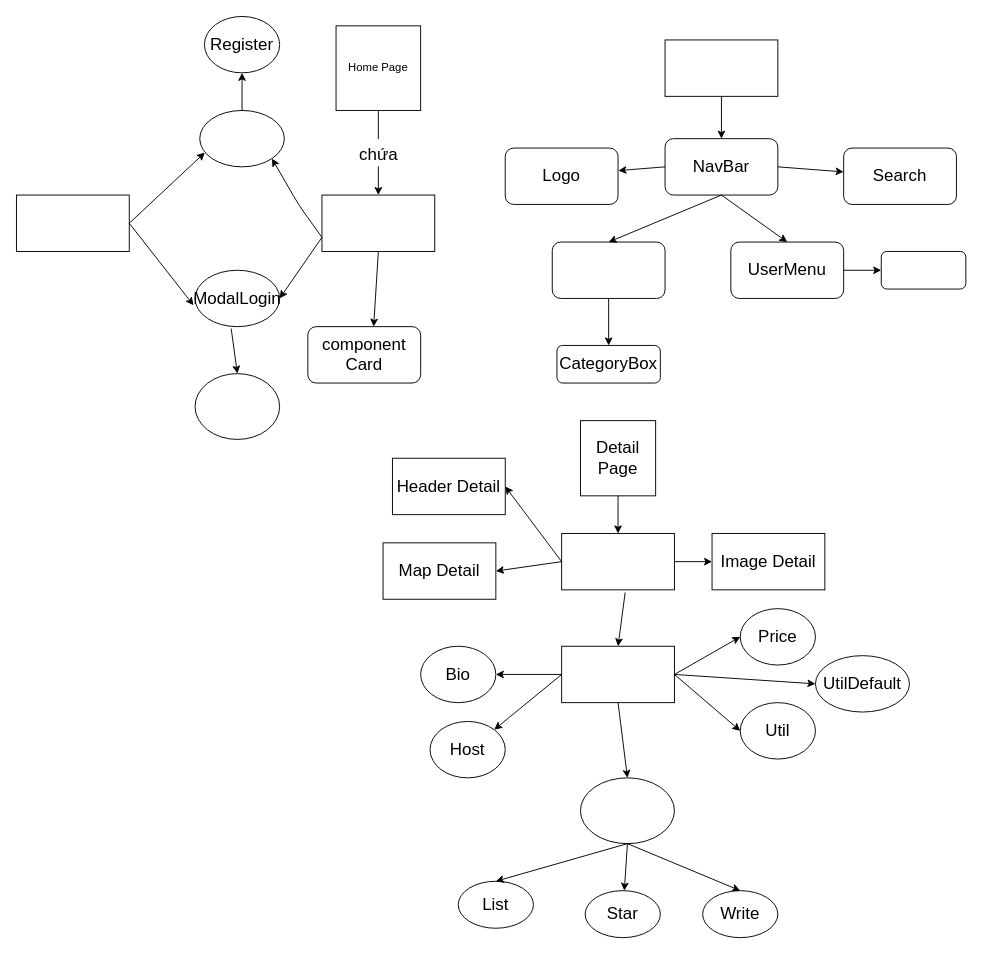
Image size: 982x954. Some labels were removed from this diagram. The shapes that lost their labels are listed below. From the top down, each one's box as (x1, y1, x2, y2) in pixels, then its label:
(664, 39, 778, 96): Header
(199, 110, 284, 167): ModalRes
(16, 194, 129, 251): ModalCustom
(321, 194, 435, 251): Home
(551, 241, 665, 298): Category
(880, 251, 966, 289): MenuItem
(194, 373, 280, 439): Login
(561, 533, 674, 590): Detail
(561, 645, 674, 703): InfoDetail
(580, 777, 674, 844): Comment
